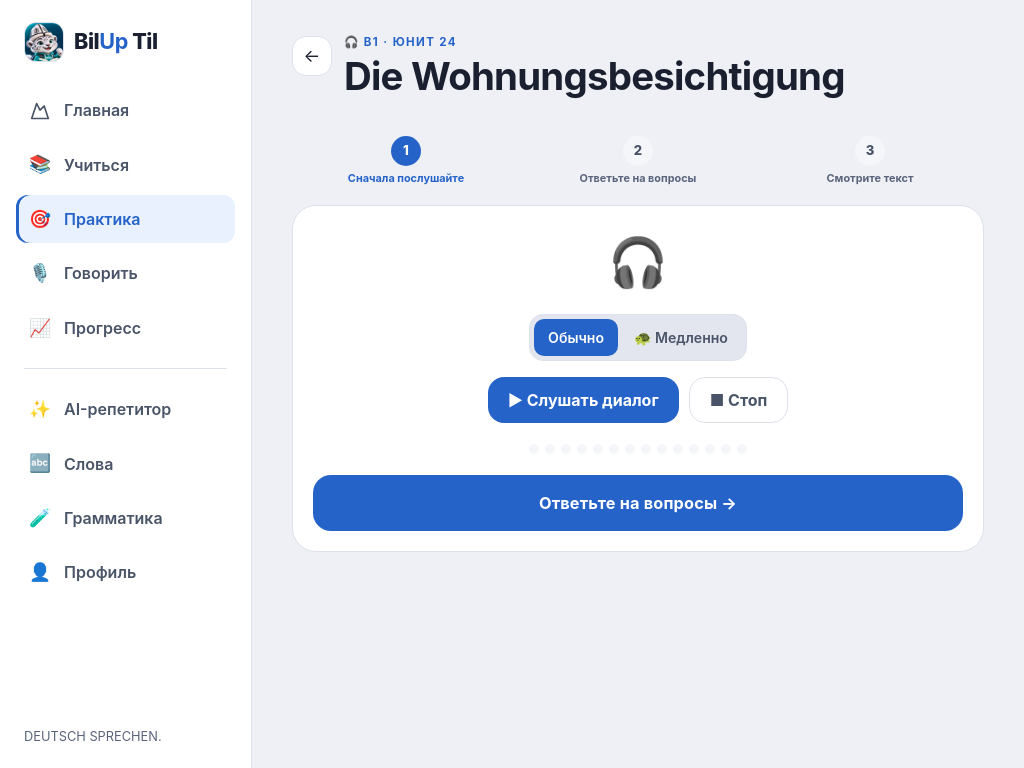
Test: reading and listening flows › ru: the listening shows the transcript only through the existing flow and offers the questions
Click the button "Ответьте на вопросы →" at {"x": 638, "y": 503}, box x1=313 y1=475 x2=963 y2=531
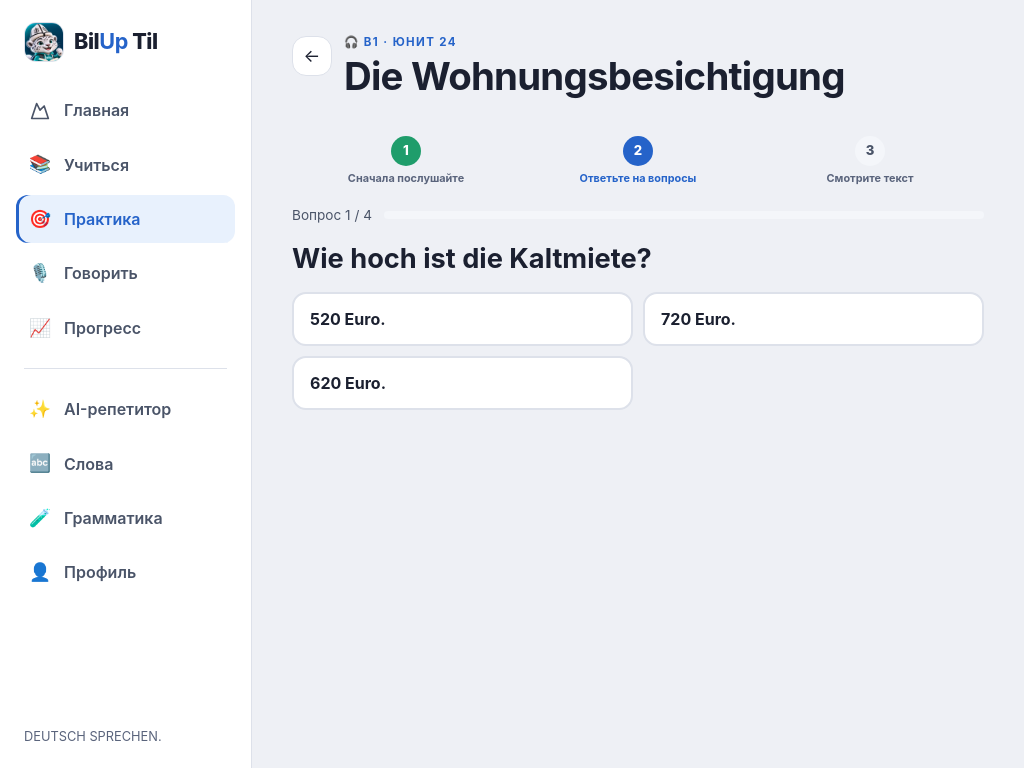
Result: the text "Wie hoch ist die Kaltmiete?" is shown at x1=292 y1=241 x2=652 y2=278
